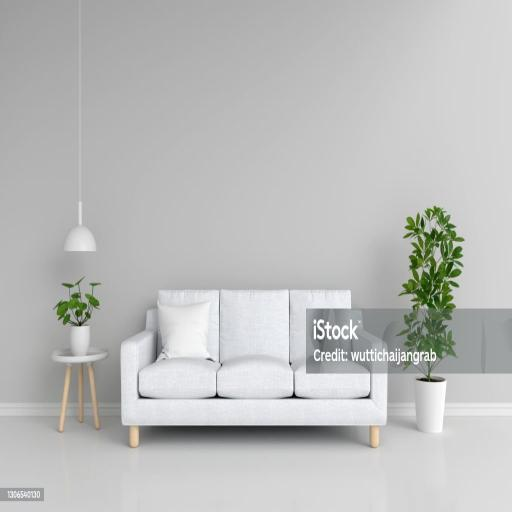back_cushion: (158, 290, 362, 362)
base: (122, 399, 386, 425)
left_arm: (364, 363, 387, 424), (356, 334, 385, 349)
legs: (370, 426, 378, 446), (130, 426, 138, 446)
right_arm: (121, 327, 156, 424)
seat_cushion: (138, 354, 370, 399)
stallion-sofa2: (122, 290, 388, 447)
